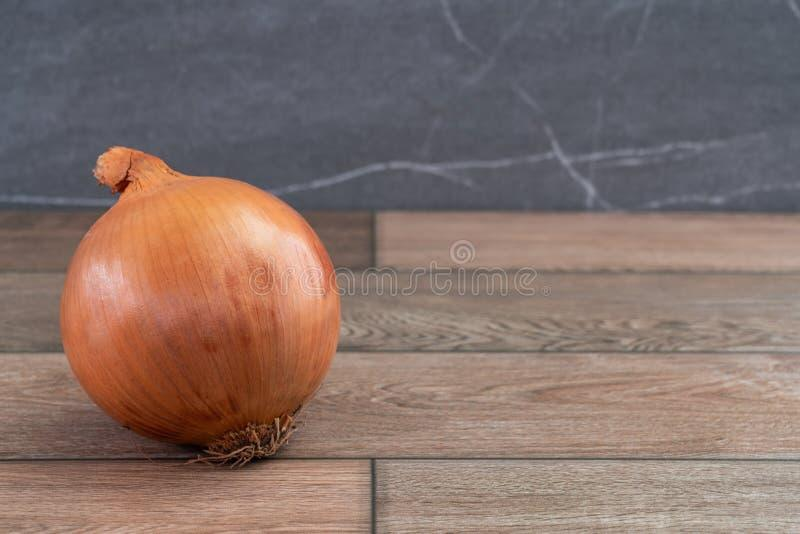Onion: (60, 147, 340, 465)
